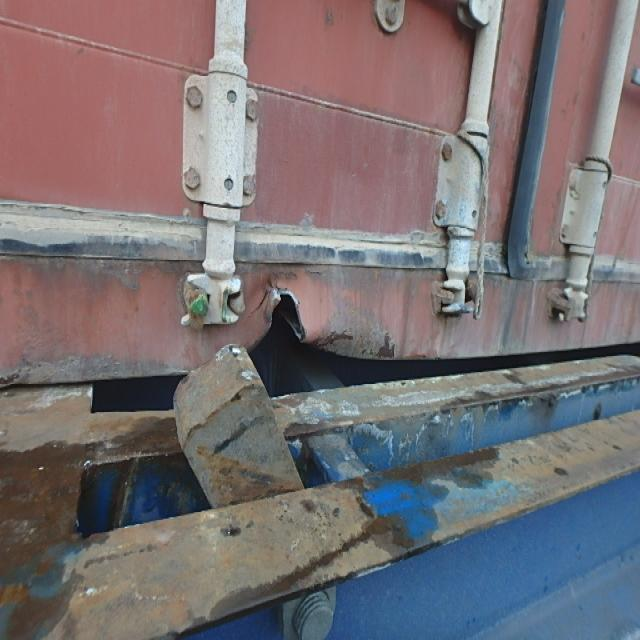dent: (313, 275, 402, 361), (250, 277, 279, 332)
